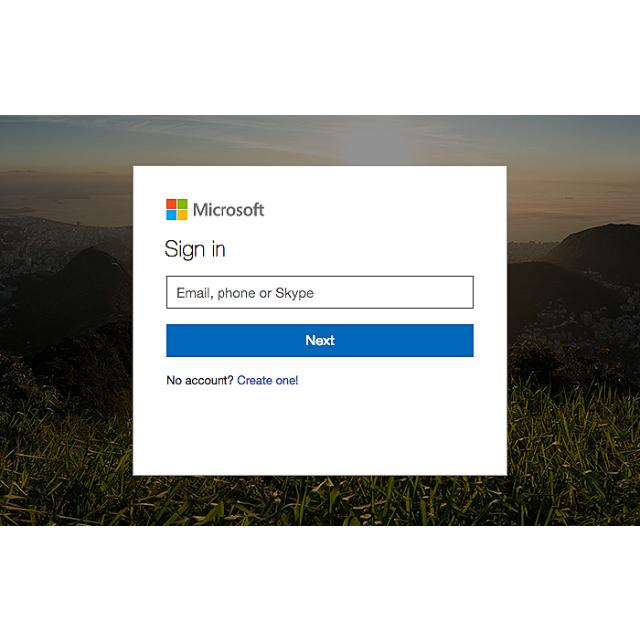QLabel: (164, 236, 230, 262), (164, 374, 234, 386), (237, 374, 299, 386), (304, 333, 336, 347)
VBtn: (164, 322, 476, 358)
VCard: (128, 157, 512, 479)
VImg: (164, 195, 266, 225)
VTextField: (165, 274, 475, 308)
